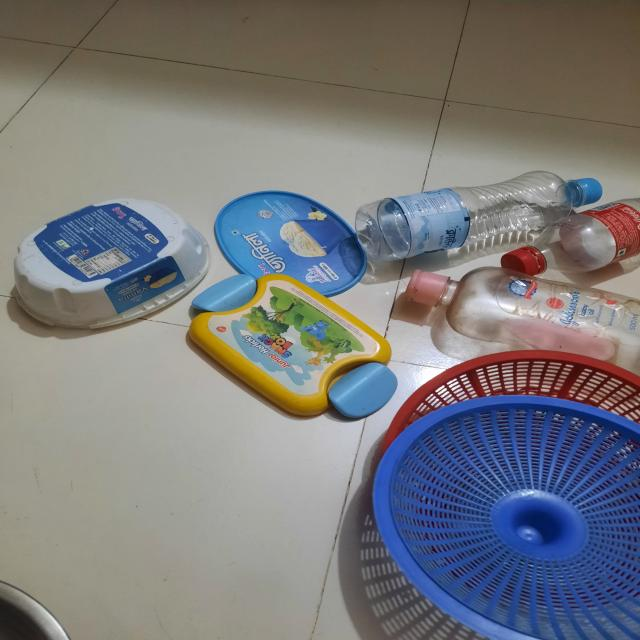Plastics: (10, 169, 640, 408), (379, 381, 640, 640)
